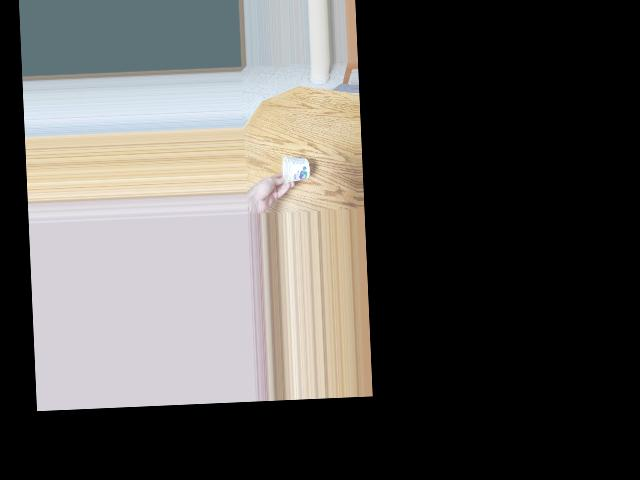cotage: (275, 152, 310, 189)
